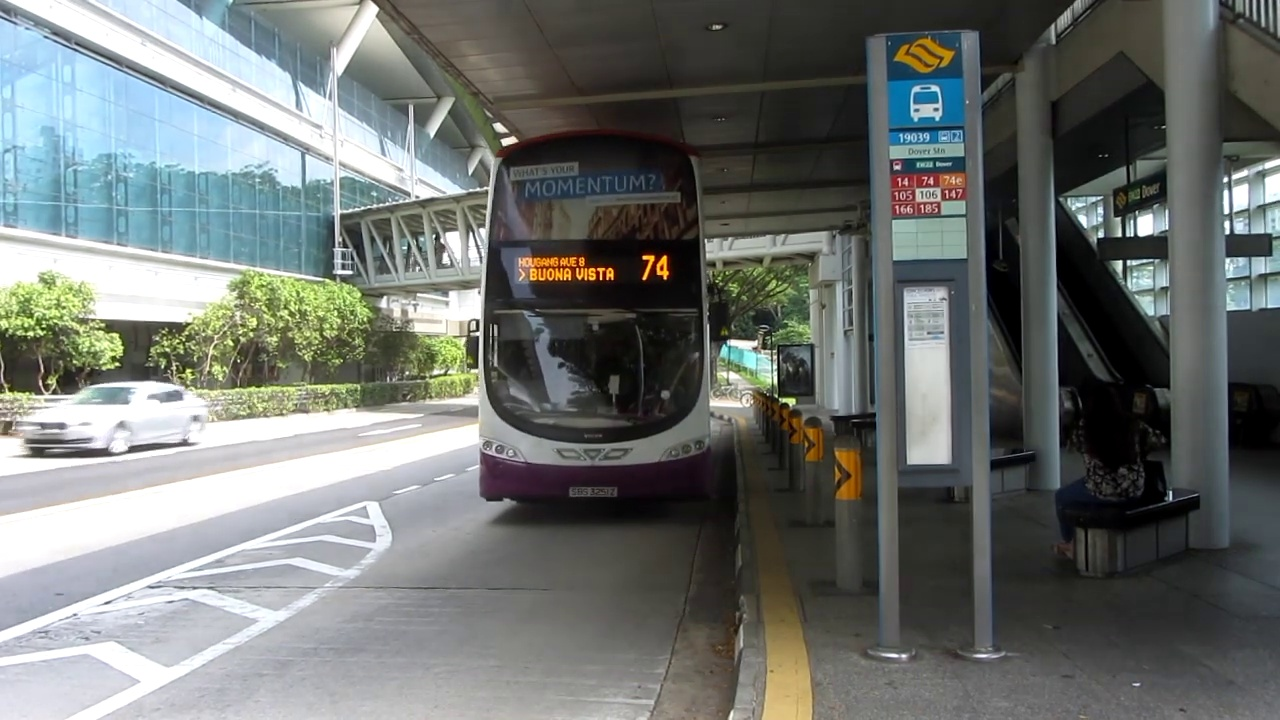bus panel: (514, 253, 674, 285)
